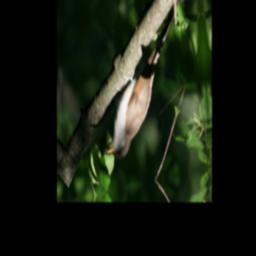Cuckoo: (95, 2, 187, 163)
